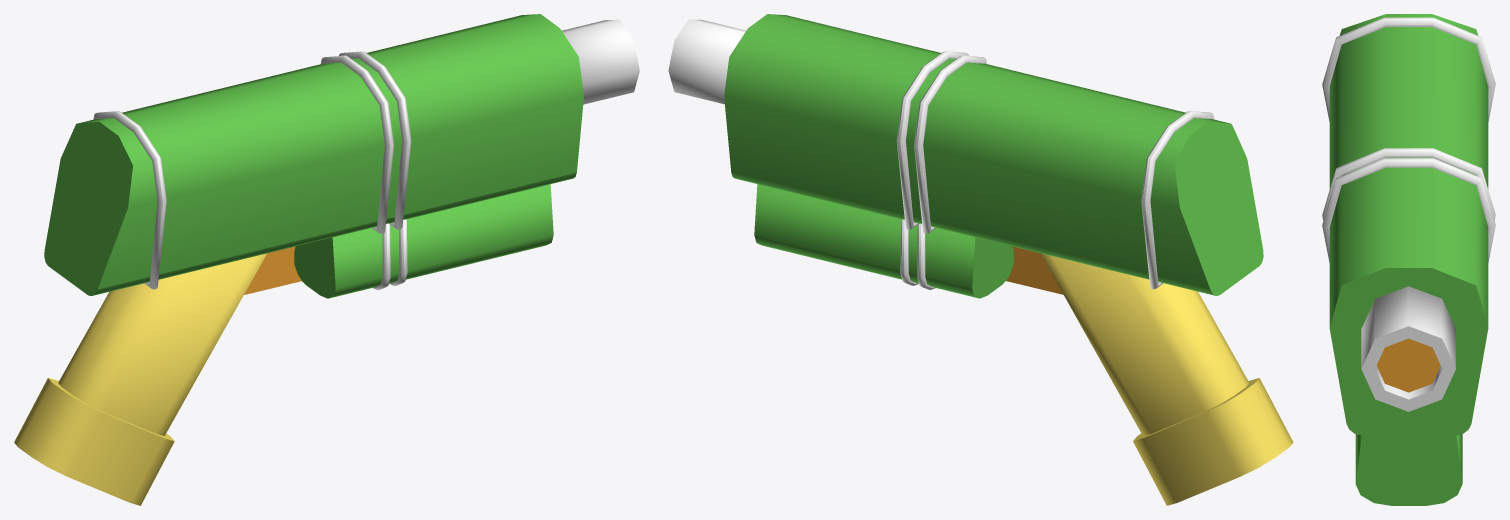
File: bamboo_pistol.glb
The picture shows the model from 3 angles, left to right: view 1: azimuth 30°, elevation 25°; view 2: azimuth 150°, elevation 25°; view 3: azimuth 270°, elevation 25°; orthographic projection. The views are drawn at different scales.
Visible parts, largest first — view 1: Base.001, Handle.001, Cube, Nozzle.001, Base.004, Base.002, Base.003, Trigger.001; view 2: Base.001, Handle.001, Cube, Nozzle.001, Base.002, Base.004, Base.003, Trigger.001; view 3: Base.001, Nozzle.001, Cube, Base.003, Base.004, Base.002.
Boxes of the visible parts, bbox=[...] form: Base.001: bbox=[44, 14, 583, 295]; Handle.001: bbox=[14, 253, 266, 505]; Cube: bbox=[294, 184, 553, 298]; Nozzle.001: bbox=[562, 19, 639, 104]; Base.004: bbox=[93, 111, 166, 289]; Base.002: bbox=[321, 55, 393, 233]; Base.003: bbox=[339, 51, 411, 229]; Trigger.001: bbox=[244, 246, 301, 294]; Base.001: bbox=[724, 14, 1263, 295]; Handle.001: bbox=[1040, 253, 1293, 505]; Cube: bbox=[754, 184, 1013, 298]; Nozzle.001: bbox=[668, 19, 746, 104]; Base.002: bbox=[914, 55, 986, 233]; Base.004: bbox=[1141, 111, 1214, 289]; Base.003: bbox=[896, 51, 969, 229]; Trigger.001: bbox=[1006, 246, 1063, 294]; Base.001: bbox=[1329, 14, 1488, 435]; Nozzle.001: bbox=[1361, 286, 1455, 411]; Cube: bbox=[1355, 434, 1462, 505]; Base.003: bbox=[1322, 158, 1495, 262]; Base.004: bbox=[1322, 17, 1495, 121]; Base.002: bbox=[1322, 148, 1495, 220].
Bounding box in the file's own units: 0.9907 × 0.6016 × 0.2123.
Materials: 8 (4 with a texture image).
